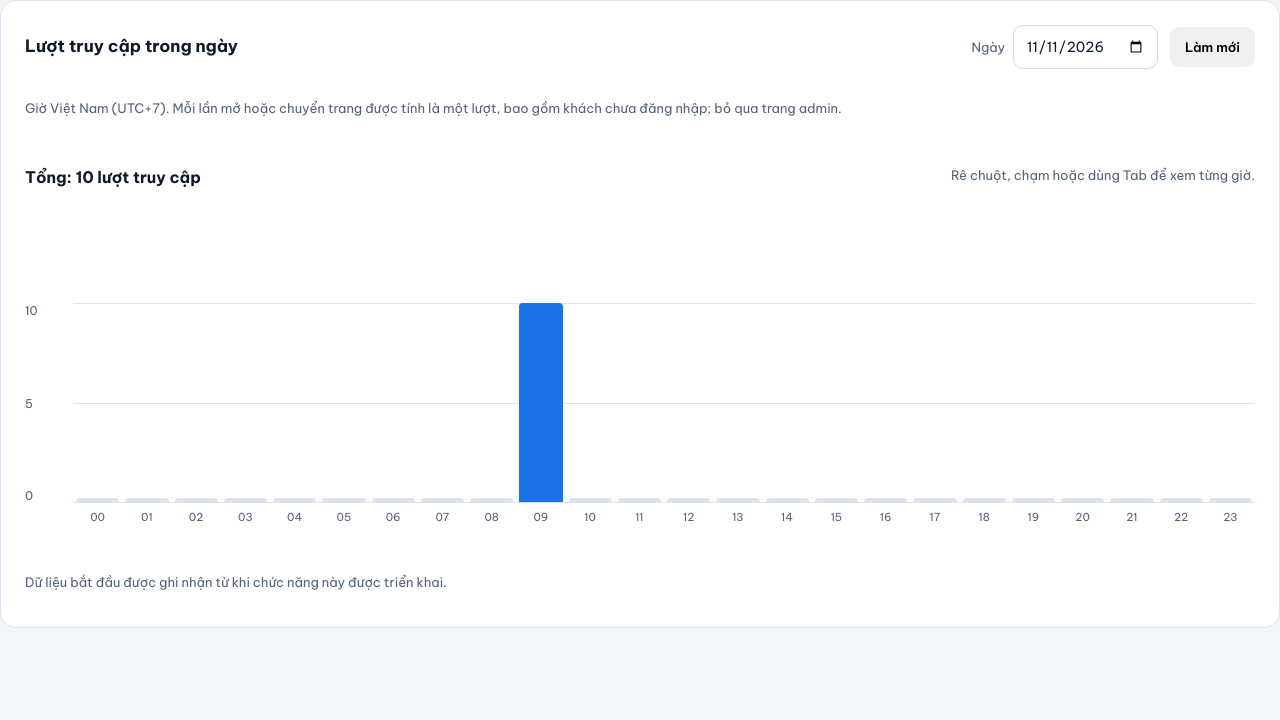
TrafficChart › uses today's Vietnam date and shows hourly details on hover, focus and tap
Check: the text "Tổng: 10 lượt truy cập" is shown, box top-left (25, 167), bottom-right (201, 187)
Hover over the button named "09:00 – 10:00: 10 lượt truy cập": (541, 402) top-left (516, 303), bottom-right (566, 502)
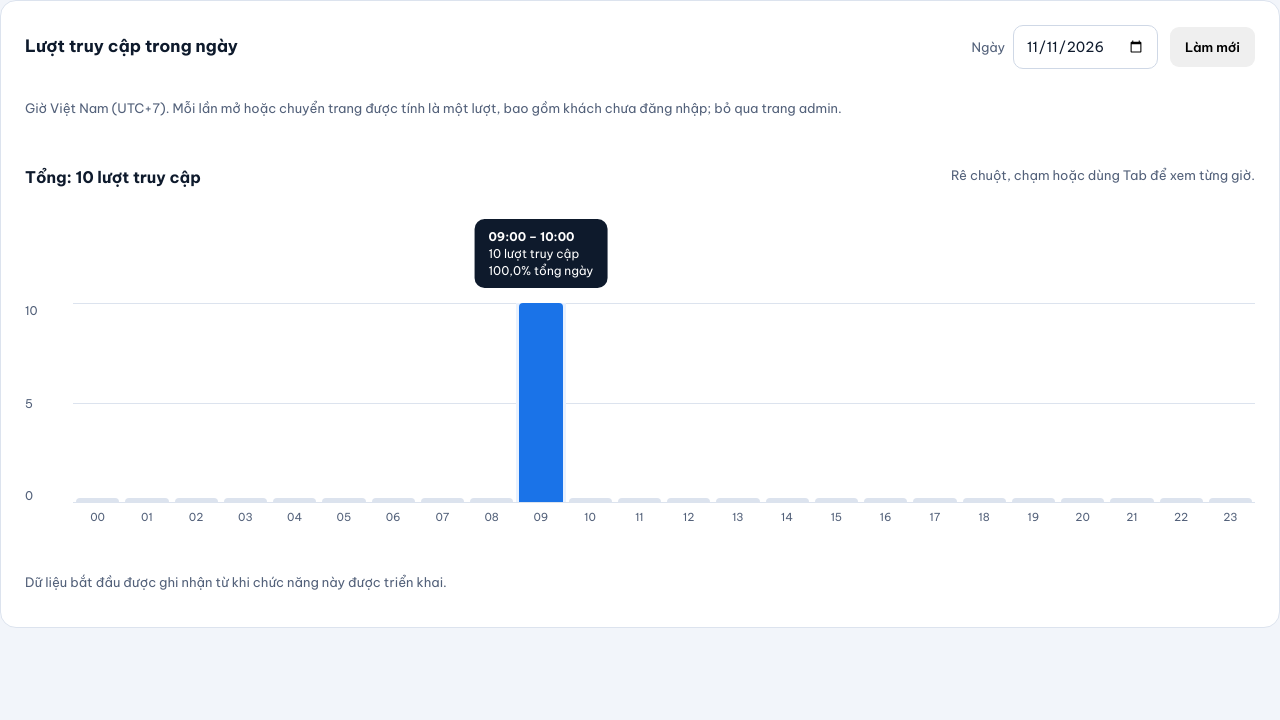
Check: the tooltip shows "09:00 – 10:00", box top-left (474, 219), bottom-right (607, 288)
Check: the tooltip shows "100,0% tổng ngày", box top-left (474, 219), bottom-right (607, 288)
Move the pointer off the element that starts with "lượt truy cập", box top-left (73, 303), bottom-right (1255, 503)
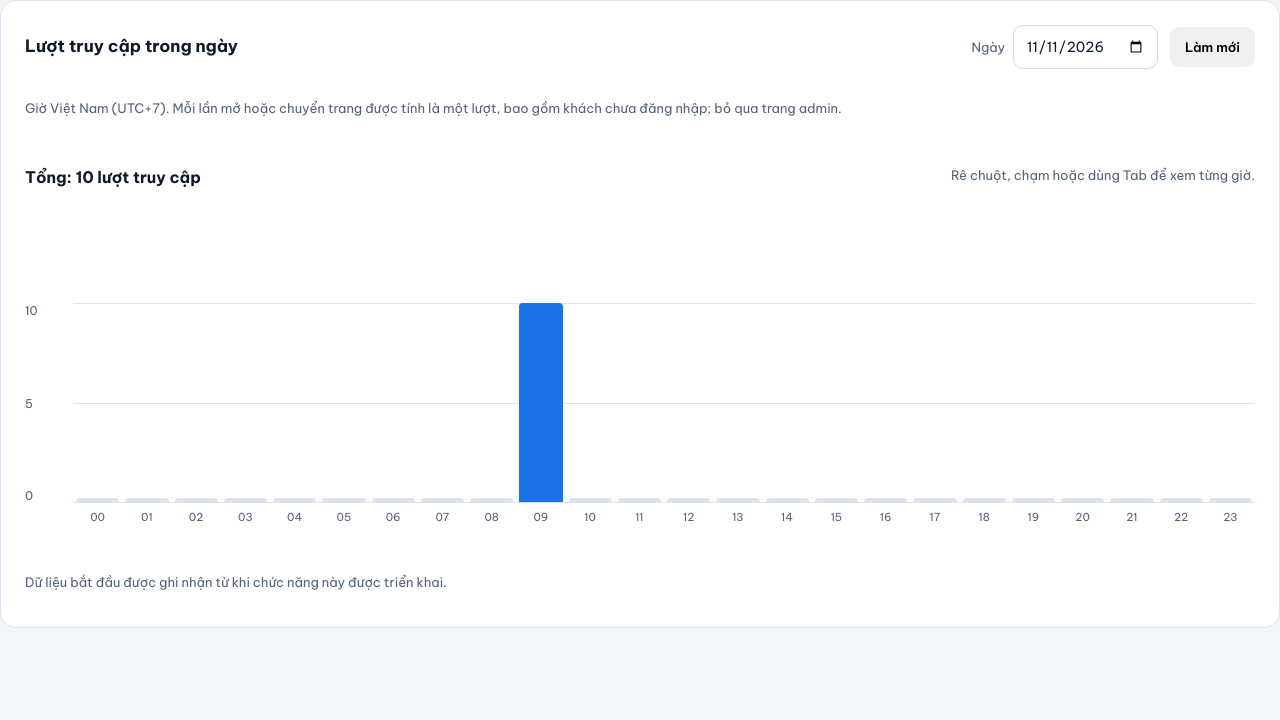
Check: the tooltip "09:00 – 10:00 10 lượt truy cập 100,0% tổng ngày" is gone
Focus the button named "09:00 – 10:00: 10 lượt truy cập": (541, 402) top-left (516, 303), bottom-right (566, 502)
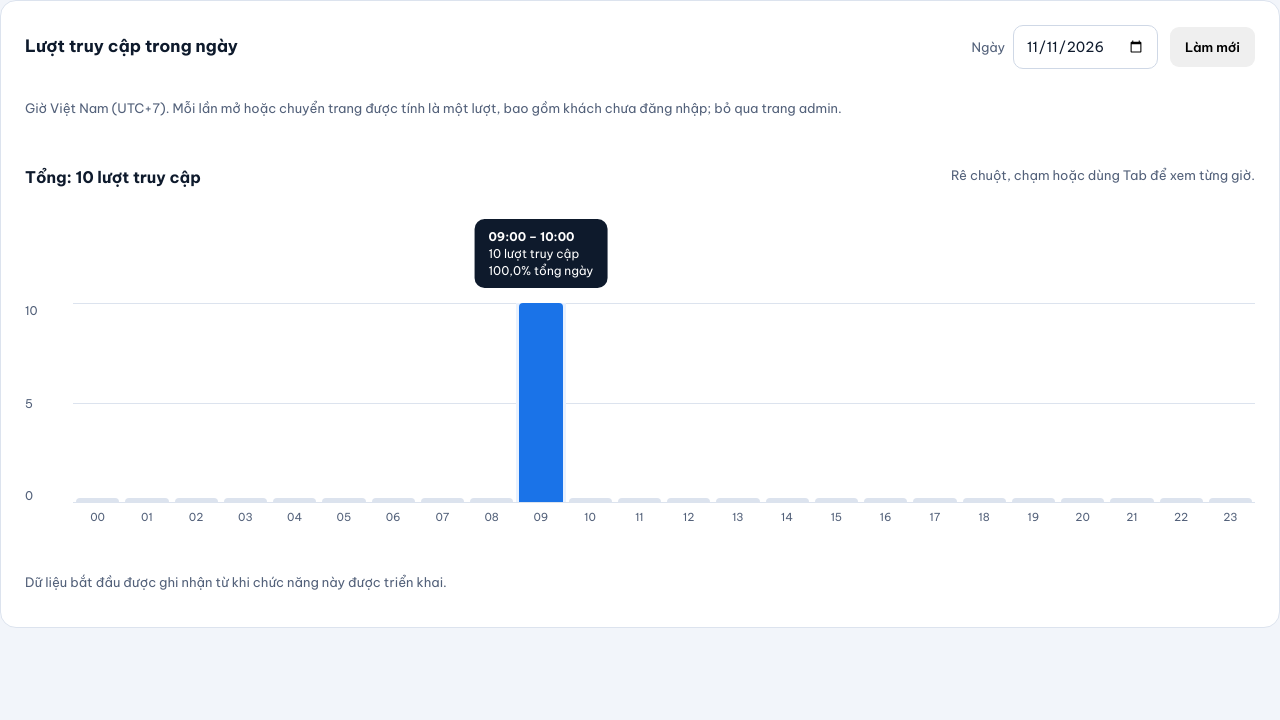
Check: the tooltip "09:00 – 10:00 10 lượt truy cập 100,0% tổng ngày" is shown, box top-left (474, 219), bottom-right (607, 288)
Press Escape in the button named "09:00 – 10:00: 10 lượt truy cập", box top-left (516, 303), bottom-right (566, 502)
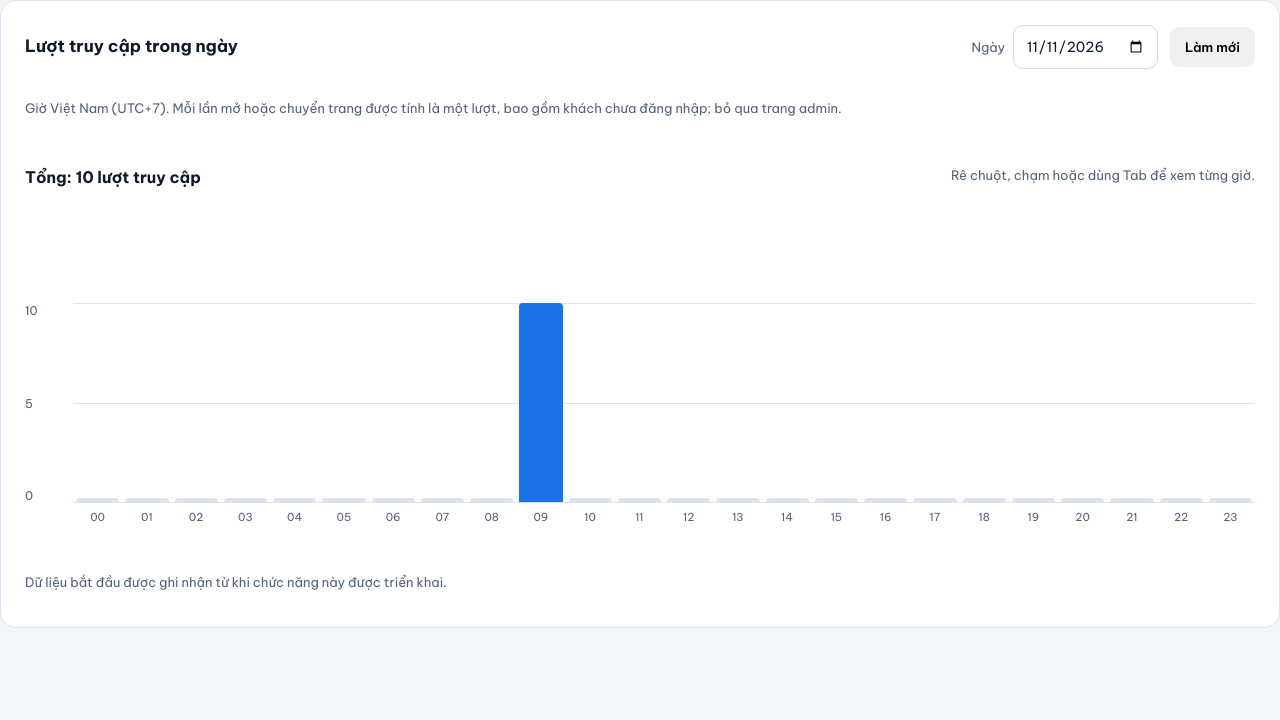
Check: the tooltip "09:00 – 10:00 10 lượt truy cập 100,0% tổng ngày" is gone
Click the button named "23:00 – 24:00: 0 lượt truy cập": (1230, 402) top-left (1206, 303), bottom-right (1255, 502)
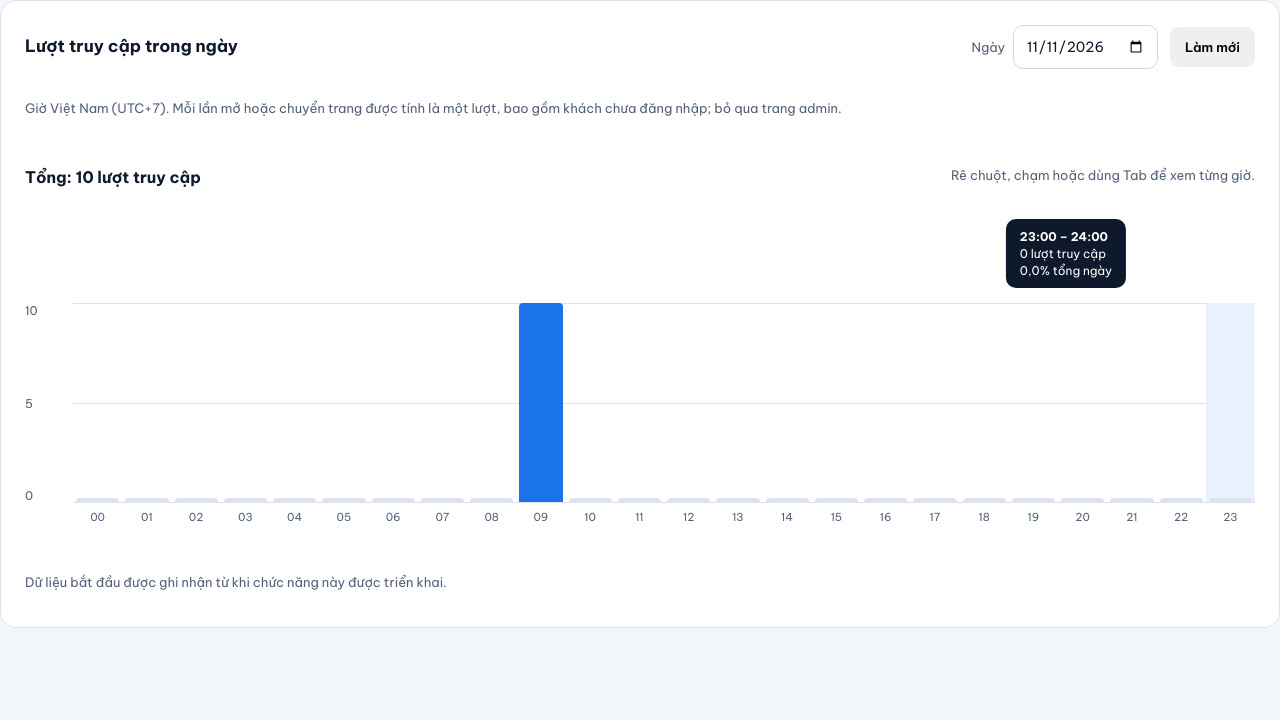
Check: the tooltip shows "0% tổng ngày", box top-left (1006, 219), bottom-right (1126, 288)
